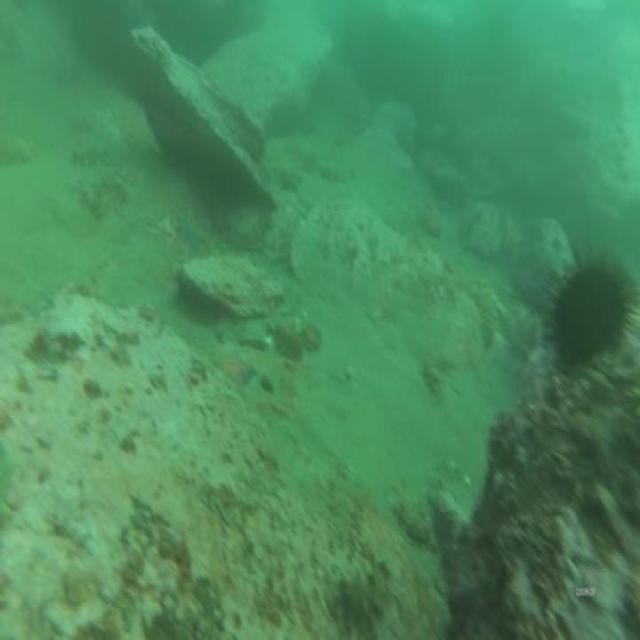echinus: (552, 262, 628, 374)
holothurian: (328, 554, 393, 626), (473, 274, 498, 358)
starfish: (212, 343, 260, 393), (175, 213, 208, 254)
